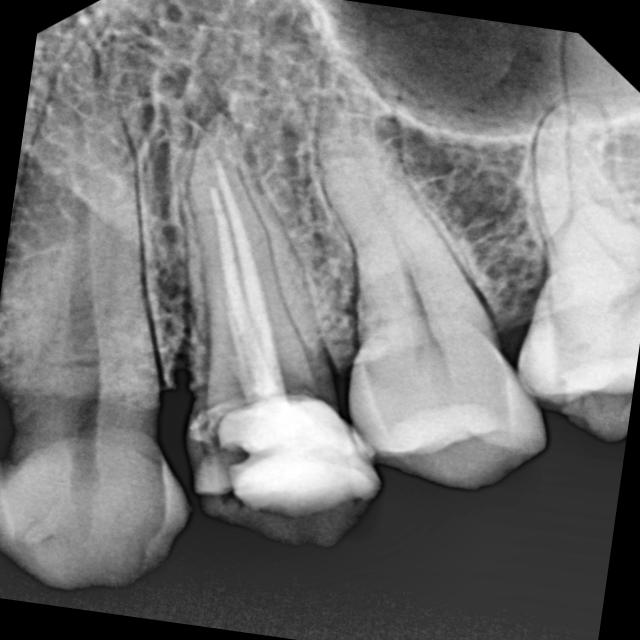Caries: (0, 310, 179, 593), (178, 418, 287, 512)
Normal: (281, 33, 576, 512)
